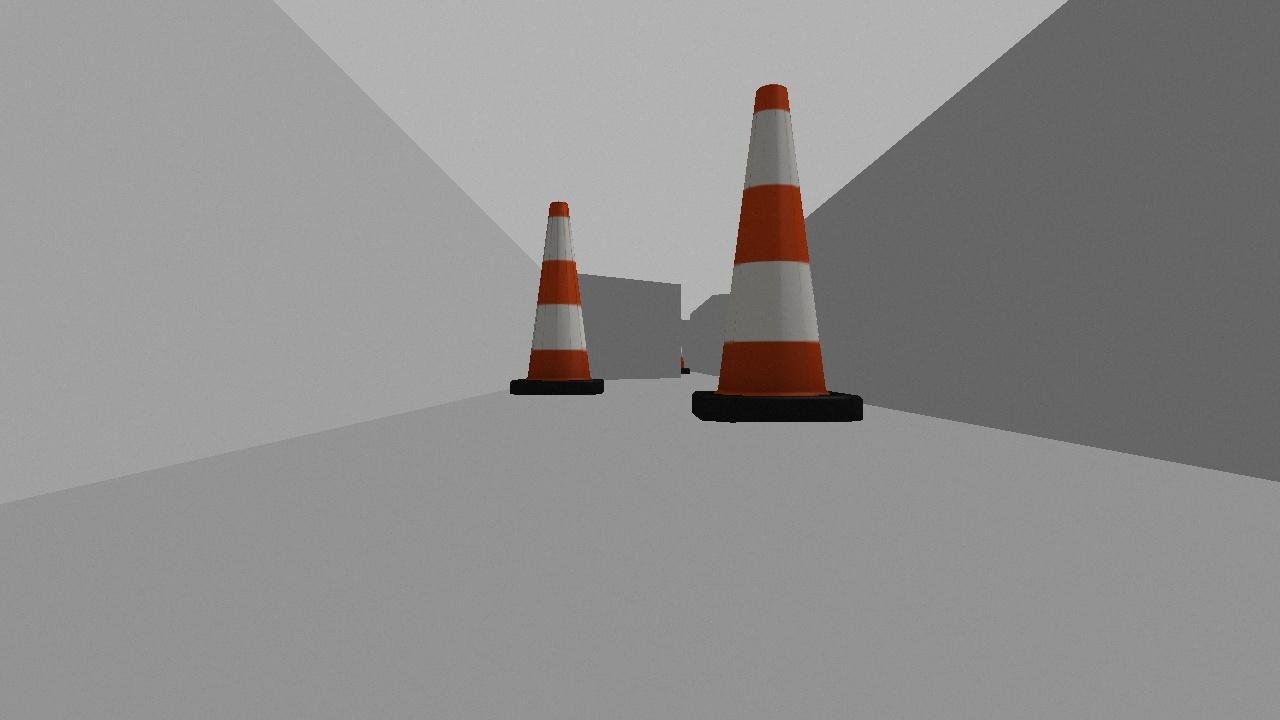cone_barrel: (688, 79, 862, 421), (507, 198, 602, 395)
